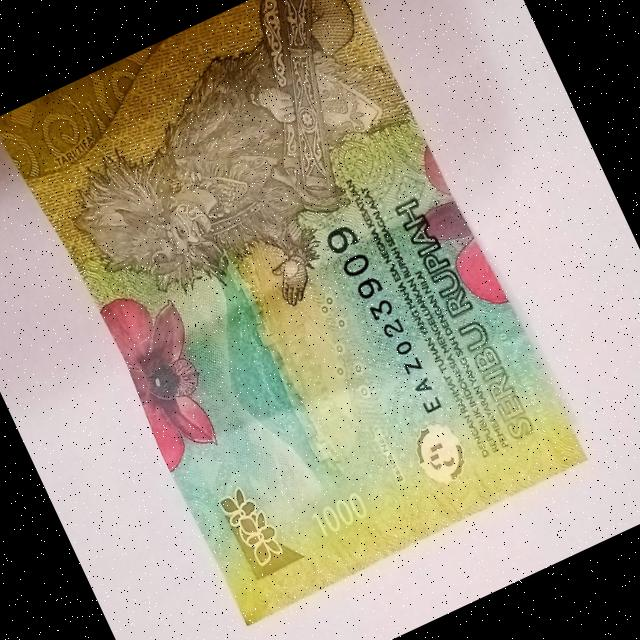1K: (0, 0, 591, 632)
